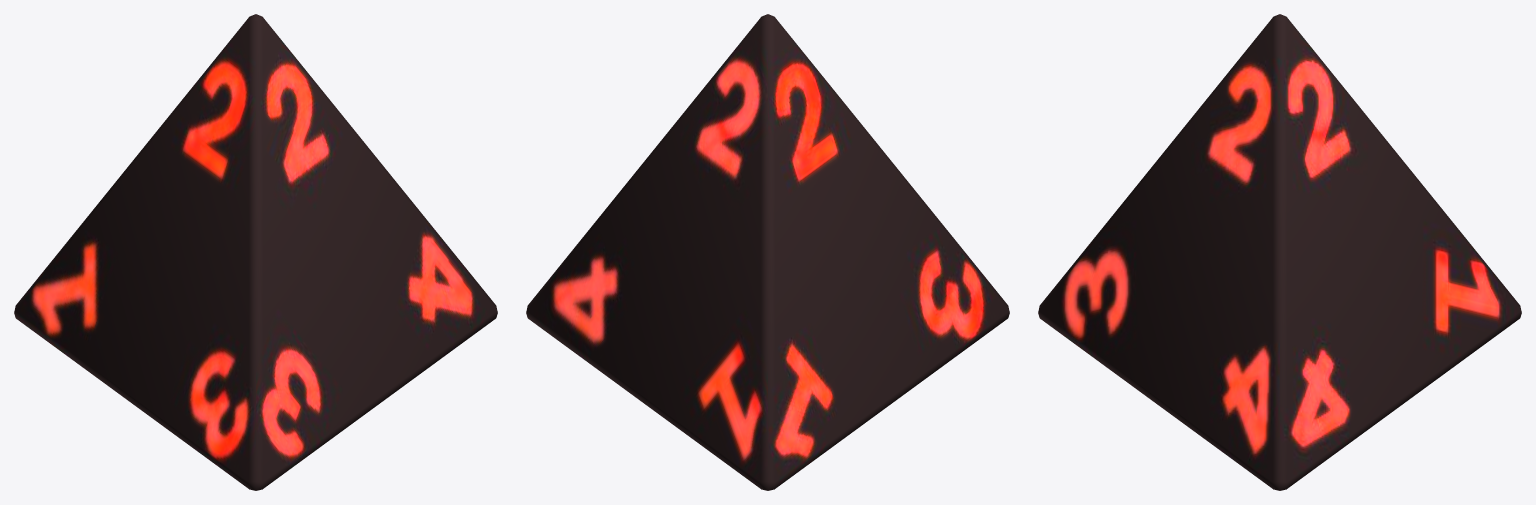
3 renders of one model, left to right at view 1: azimuth 30°, elevation 25°; view 2: azimuth 150°, elevation 25°; view 3: azimuth 270°, elevation 25°, orthographic.
Visible parts, largest first — view 1: 4Yellow; view 2: 4Yellow; view 3: 4Yellow.
Boxes of the visible parts, x1,y1,x2,y2 form: 4Yellow: (14, 14, 497, 490); 4Yellow: (526, 14, 1009, 490); 4Yellow: (1038, 14, 1521, 490).
Size of the model in its own units: 1.35 by 1.28 by 1.55.
Materials: 1 (1 with a texture image).
